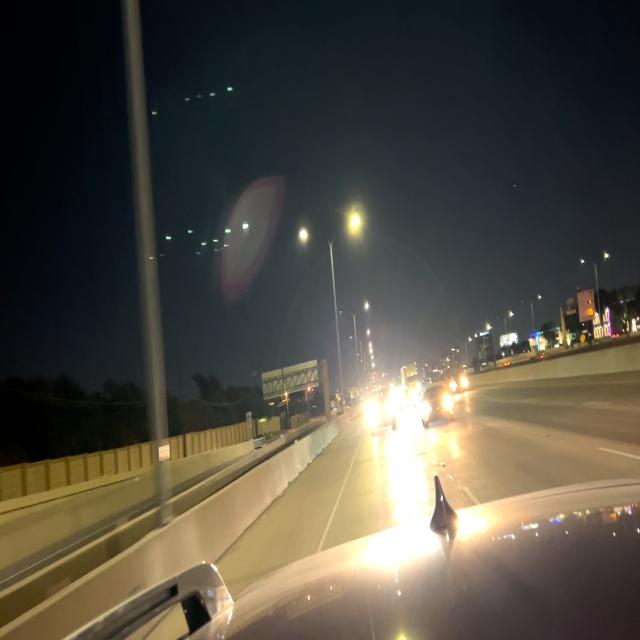back-of-sign: (260, 357, 320, 404)
